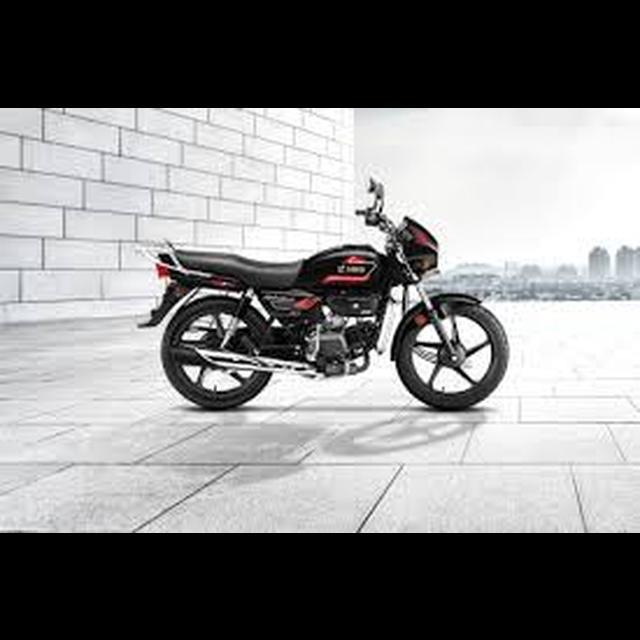motorcycle: (129, 167, 514, 417)
